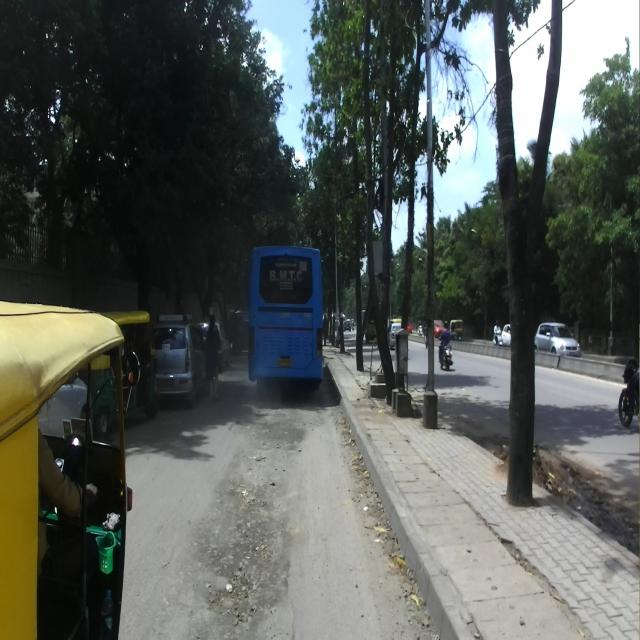Car_TATA: (153, 318, 212, 399)
autorickshaw: (0, 295, 139, 639), (89, 312, 160, 439)
bus: (248, 241, 322, 398)
